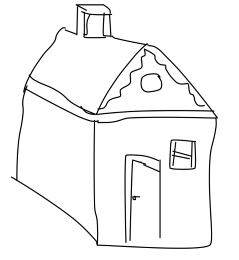big_house: (3, 2, 236, 258)
chimney: (72, 1, 122, 49)
closed_window: (166, 135, 201, 174)
door: (114, 143, 169, 252)
roof: (18, 20, 224, 126)
wall: (85, 108, 222, 255)
